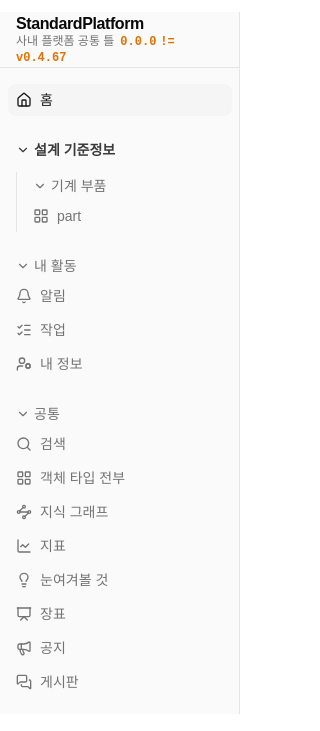
Test case: 사이드바 묶음 접기 › 상위 묶음 아래에 자식이 들어간다 — 정의가 그렇게 오면
Expected: the button "내 활동" is shown, [8, 252, 232, 280]
Expected: the button "기계 부품" is shown, [25, 172, 232, 200]
Click the button "설계 기준정보" at (120, 150), box [8, 136, 232, 164]
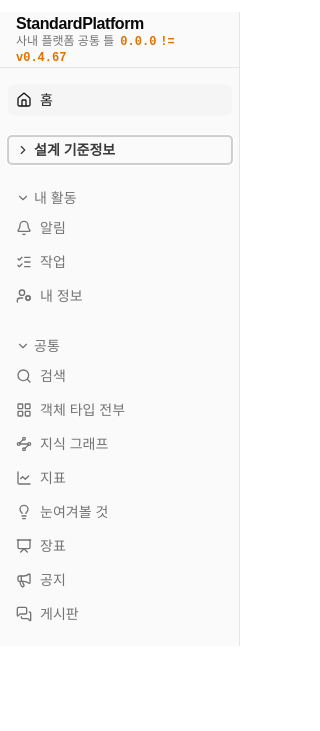
Now the button "기계 부품" is gone
Now the link "part" is gone
